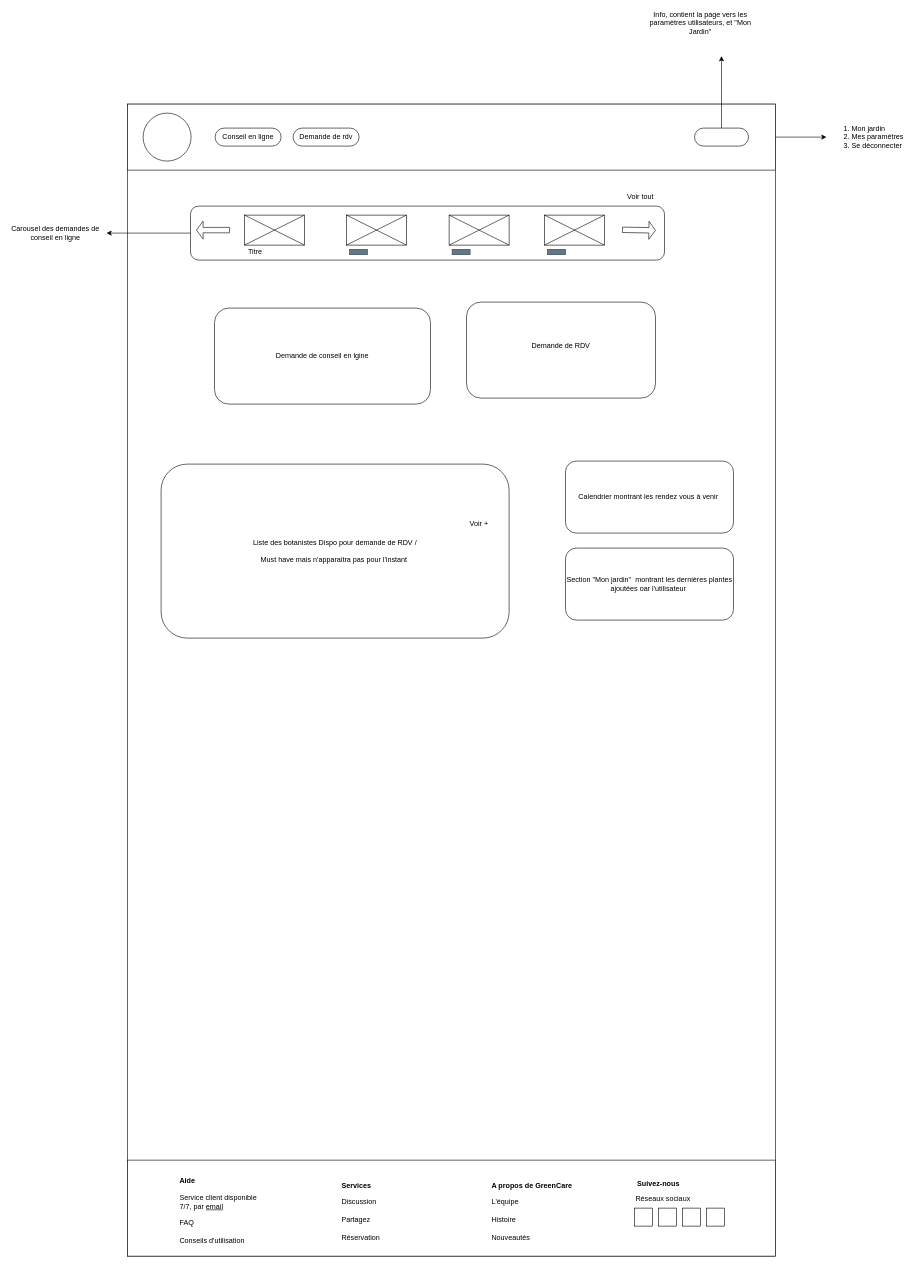
This 916x1267 diagram has some shape labels left out. The box of each missing label's shape, as (x1, y1, x2, y2) in pixels:
LOGO: (142, 112, 191, 161)
Profil: (694, 128, 748, 146)
